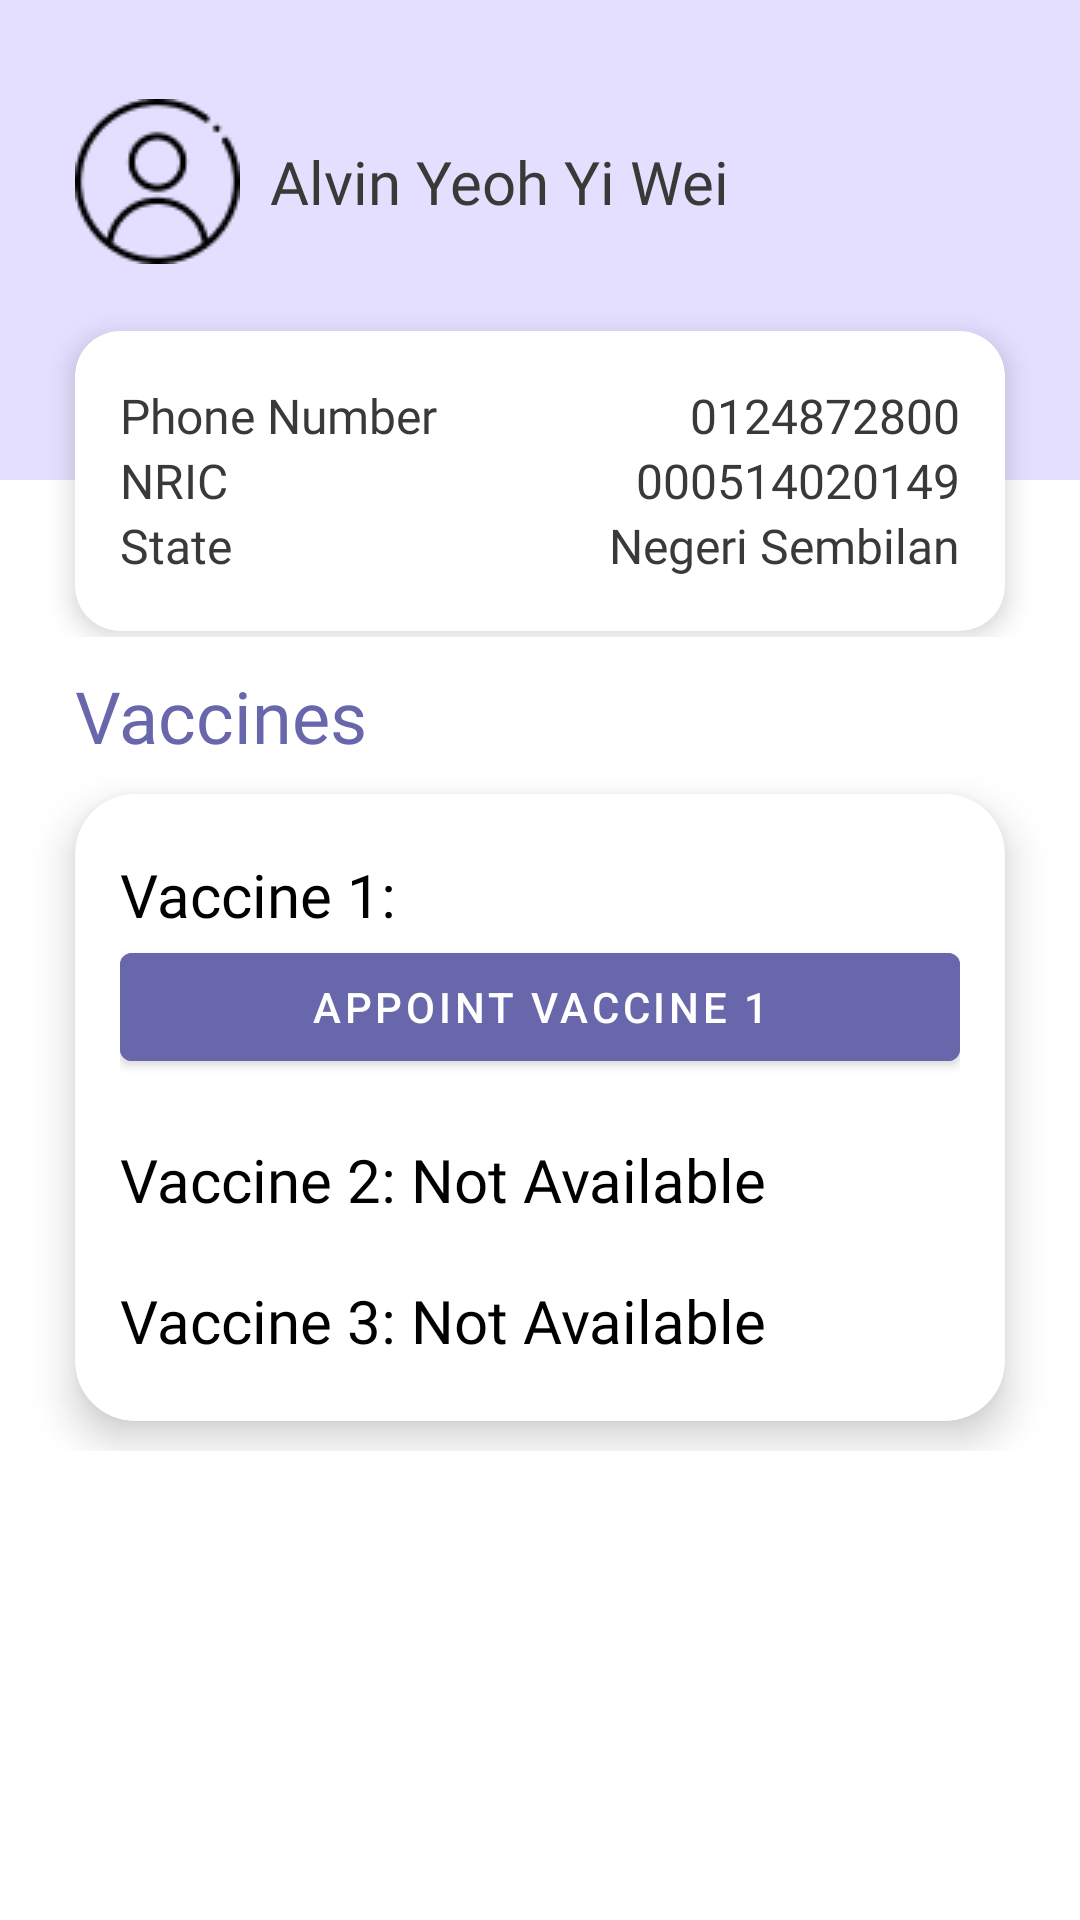

Locate icon controls on the screen. Image size 1080px×1920px, boxes as (x1,y1,x2,y2).
user: (75,99,240,264)
